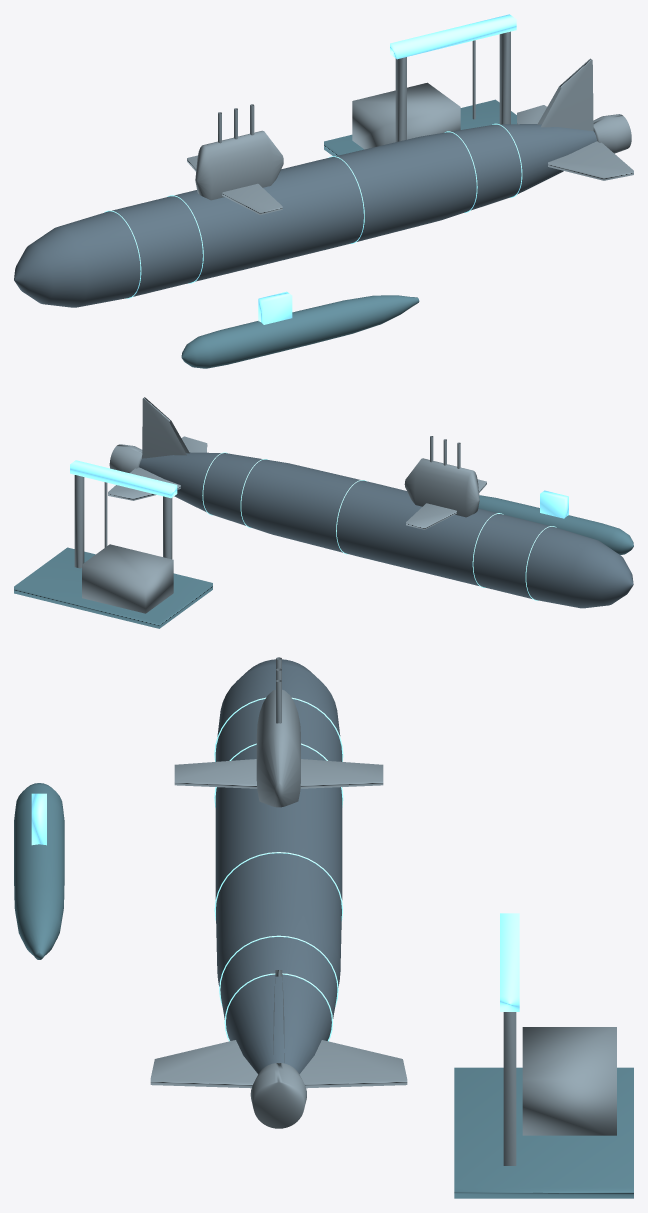
File: virginia.glb
3 views of the same model, one above another, from view 1: azimuth 30°, elevation 25°; view 2: azimuth 150°, elevation 25°; view 3: azimuth 270°, elevation 25° (orthographic). The views are drawn at different scales.
Parts seen in each view (by area): view 1: Pressure_hull_illustration_0, Future_procurement_illustration_211, Workshop_214, Sail_1, Tail_fin_9, Gantry_beam_217, Stern_plane_8, Shipyard_platform_213, Propulsor_10, Gantry_leg_216, Sail_plane_7, Gantry_leg_215 (+1 smaller); view 2: Pressure_hull_illustration_0, Shipyard_platform_213, Workshop_214, Sail_1, Future_procurement_illustration_211, Tail_fin_9, Gantry_beam_217, Gantry_leg_216, Sail_plane_5, Propulsor_10, Stern_plane_6, Future_sail_212 (+1 smaller); view 3: Pressure_hull_illustration_0, Shipyard_platform_213, Workshop_214, Future_procurement_illustration_211, Sail_1, Stern_plane_6, Stern_plane_8, Propulsor_10, Gantry_leg_216, Sail_plane_5, Sail_plane_7, Gantry_beam_217 (+1 smaller).
Boxes of the visible parts, x1=… form: Pressure_hull_illustration_0: x1=14, y1=124, x2=596, y2=307; Future_procurement_illustration_211: x1=181, y1=295, x2=419, y2=368; Workshop_214: x1=352, y1=82, x2=460, y2=149; Sail_1: x1=195, y1=130, x2=283, y2=200; Tail_fin_9: x1=537, y1=58, x2=593, y2=130; Gantry_beam_217: x1=390, y1=14, x2=516, y2=59; Stern_plane_8: x1=548, y1=141, x2=633, y2=180; Shipyard_platform_213: x1=324, y1=99, x2=516, y2=156; Propulsor_10: x1=593, y1=114, x2=631, y2=153; Gantry_leg_216: x1=499, y1=31, x2=510, y2=124; Sail_plane_7: x1=222, y1=183, x2=282, y2=214; Gantry_leg_215: x1=395, y1=57, x2=406, y2=141; Pressure_hull_illustration_0: x1=139, y1=452, x2=633, y2=608; Shipyard_platform_213: x1=14, y1=547, x2=212, y2=628; Workshop_214: x1=82, y1=544, x2=173, y2=613; Sail_1: x1=404, y1=458, x2=479, y2=517; Future_procurement_illustration_211: x1=478, y1=495, x2=633, y2=554; Tail_fin_9: x1=142, y1=397, x2=189, y2=458; Gantry_beam_217: x1=70, y1=460, x2=177, y2=498; Gantry_leg_216: x1=74, y1=475, x2=84, y2=568; Sail_plane_5: x1=406, y1=503, x2=456, y2=529; Propulsor_10: x1=109, y1=444, x2=142, y2=472; Stern_plane_6: x1=108, y1=467, x2=180, y2=500; Future_sail_212: x1=540, y1=490, x2=568, y2=518; Pressure_hull_illustration_0: x1=215, y1=659, x2=342, y2=1073; Shipyard_platform_213: x1=454, y1=1067, x2=633, y2=1198; Workshop_214: x1=522, y1=1027, x2=616, y2=1135; Future_procurement_illustration_211: x1=14, y1=783, x2=64, y2=959; Sail_1: x1=256, y1=689, x2=300, y2=807; Stern_plane_6: x1=299, y1=1040, x2=407, y2=1088; Stern_plane_8: x1=150, y1=1040, x2=257, y2=1088; Propulsor_10: x1=250, y1=1063, x2=306, y2=1128; Gantry_leg_216: x1=503, y1=1012, x2=516, y2=1165; Sail_plane_5: x1=300, y1=759, x2=383, y2=788; Sail_plane_7: x1=174, y1=759, x2=257, y2=788; Gantry_beam_217: x1=500, y1=913, x2=519, y2=1011.
Bounding box in the file's own units: 11.7 × 3.37 × 7.25.
